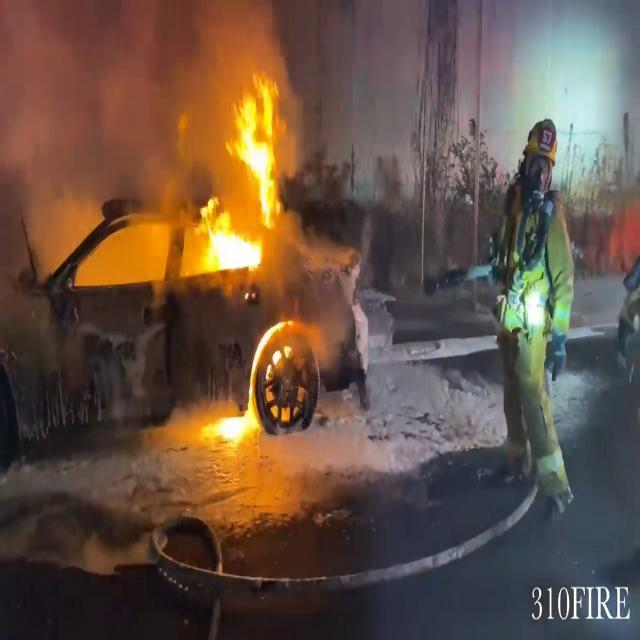Fire: (171, 65, 301, 281), (189, 400, 260, 444)
Smoke: (0, 0, 217, 270)
